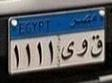1: (47, 39, 56, 64), (13, 44, 22, 69), (36, 41, 44, 66), (24, 42, 32, 67)
qaaf: (90, 34, 103, 59)
waw: (75, 37, 89, 58)
yaa: (59, 40, 75, 61)
